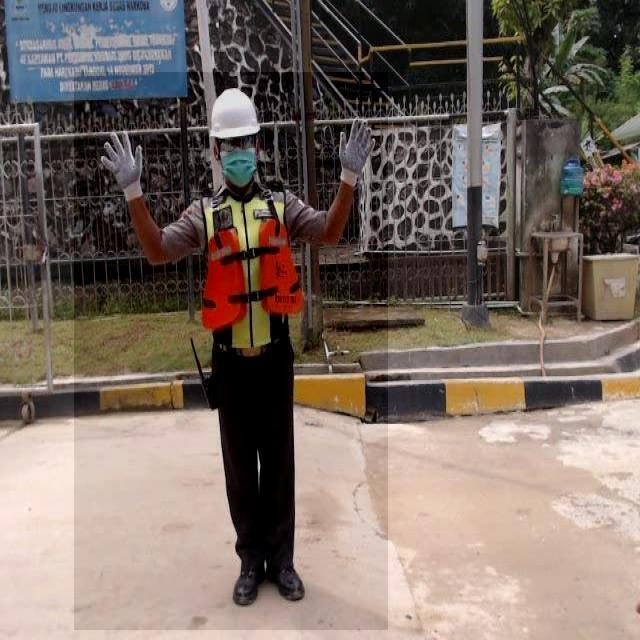Gloves: (94, 120, 158, 210), (329, 105, 386, 192)
Helmet: (207, 87, 262, 142)
Person: (89, 70, 404, 626)
Safety Boot: (264, 553, 306, 608), (233, 557, 266, 608)
Safety Vest: (200, 189, 305, 359)
